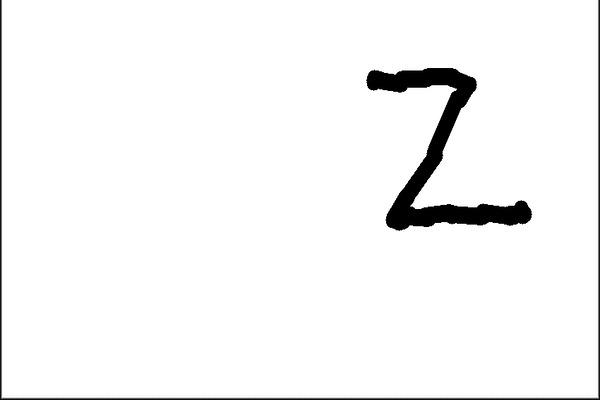Z: (355, 61, 534, 244)
